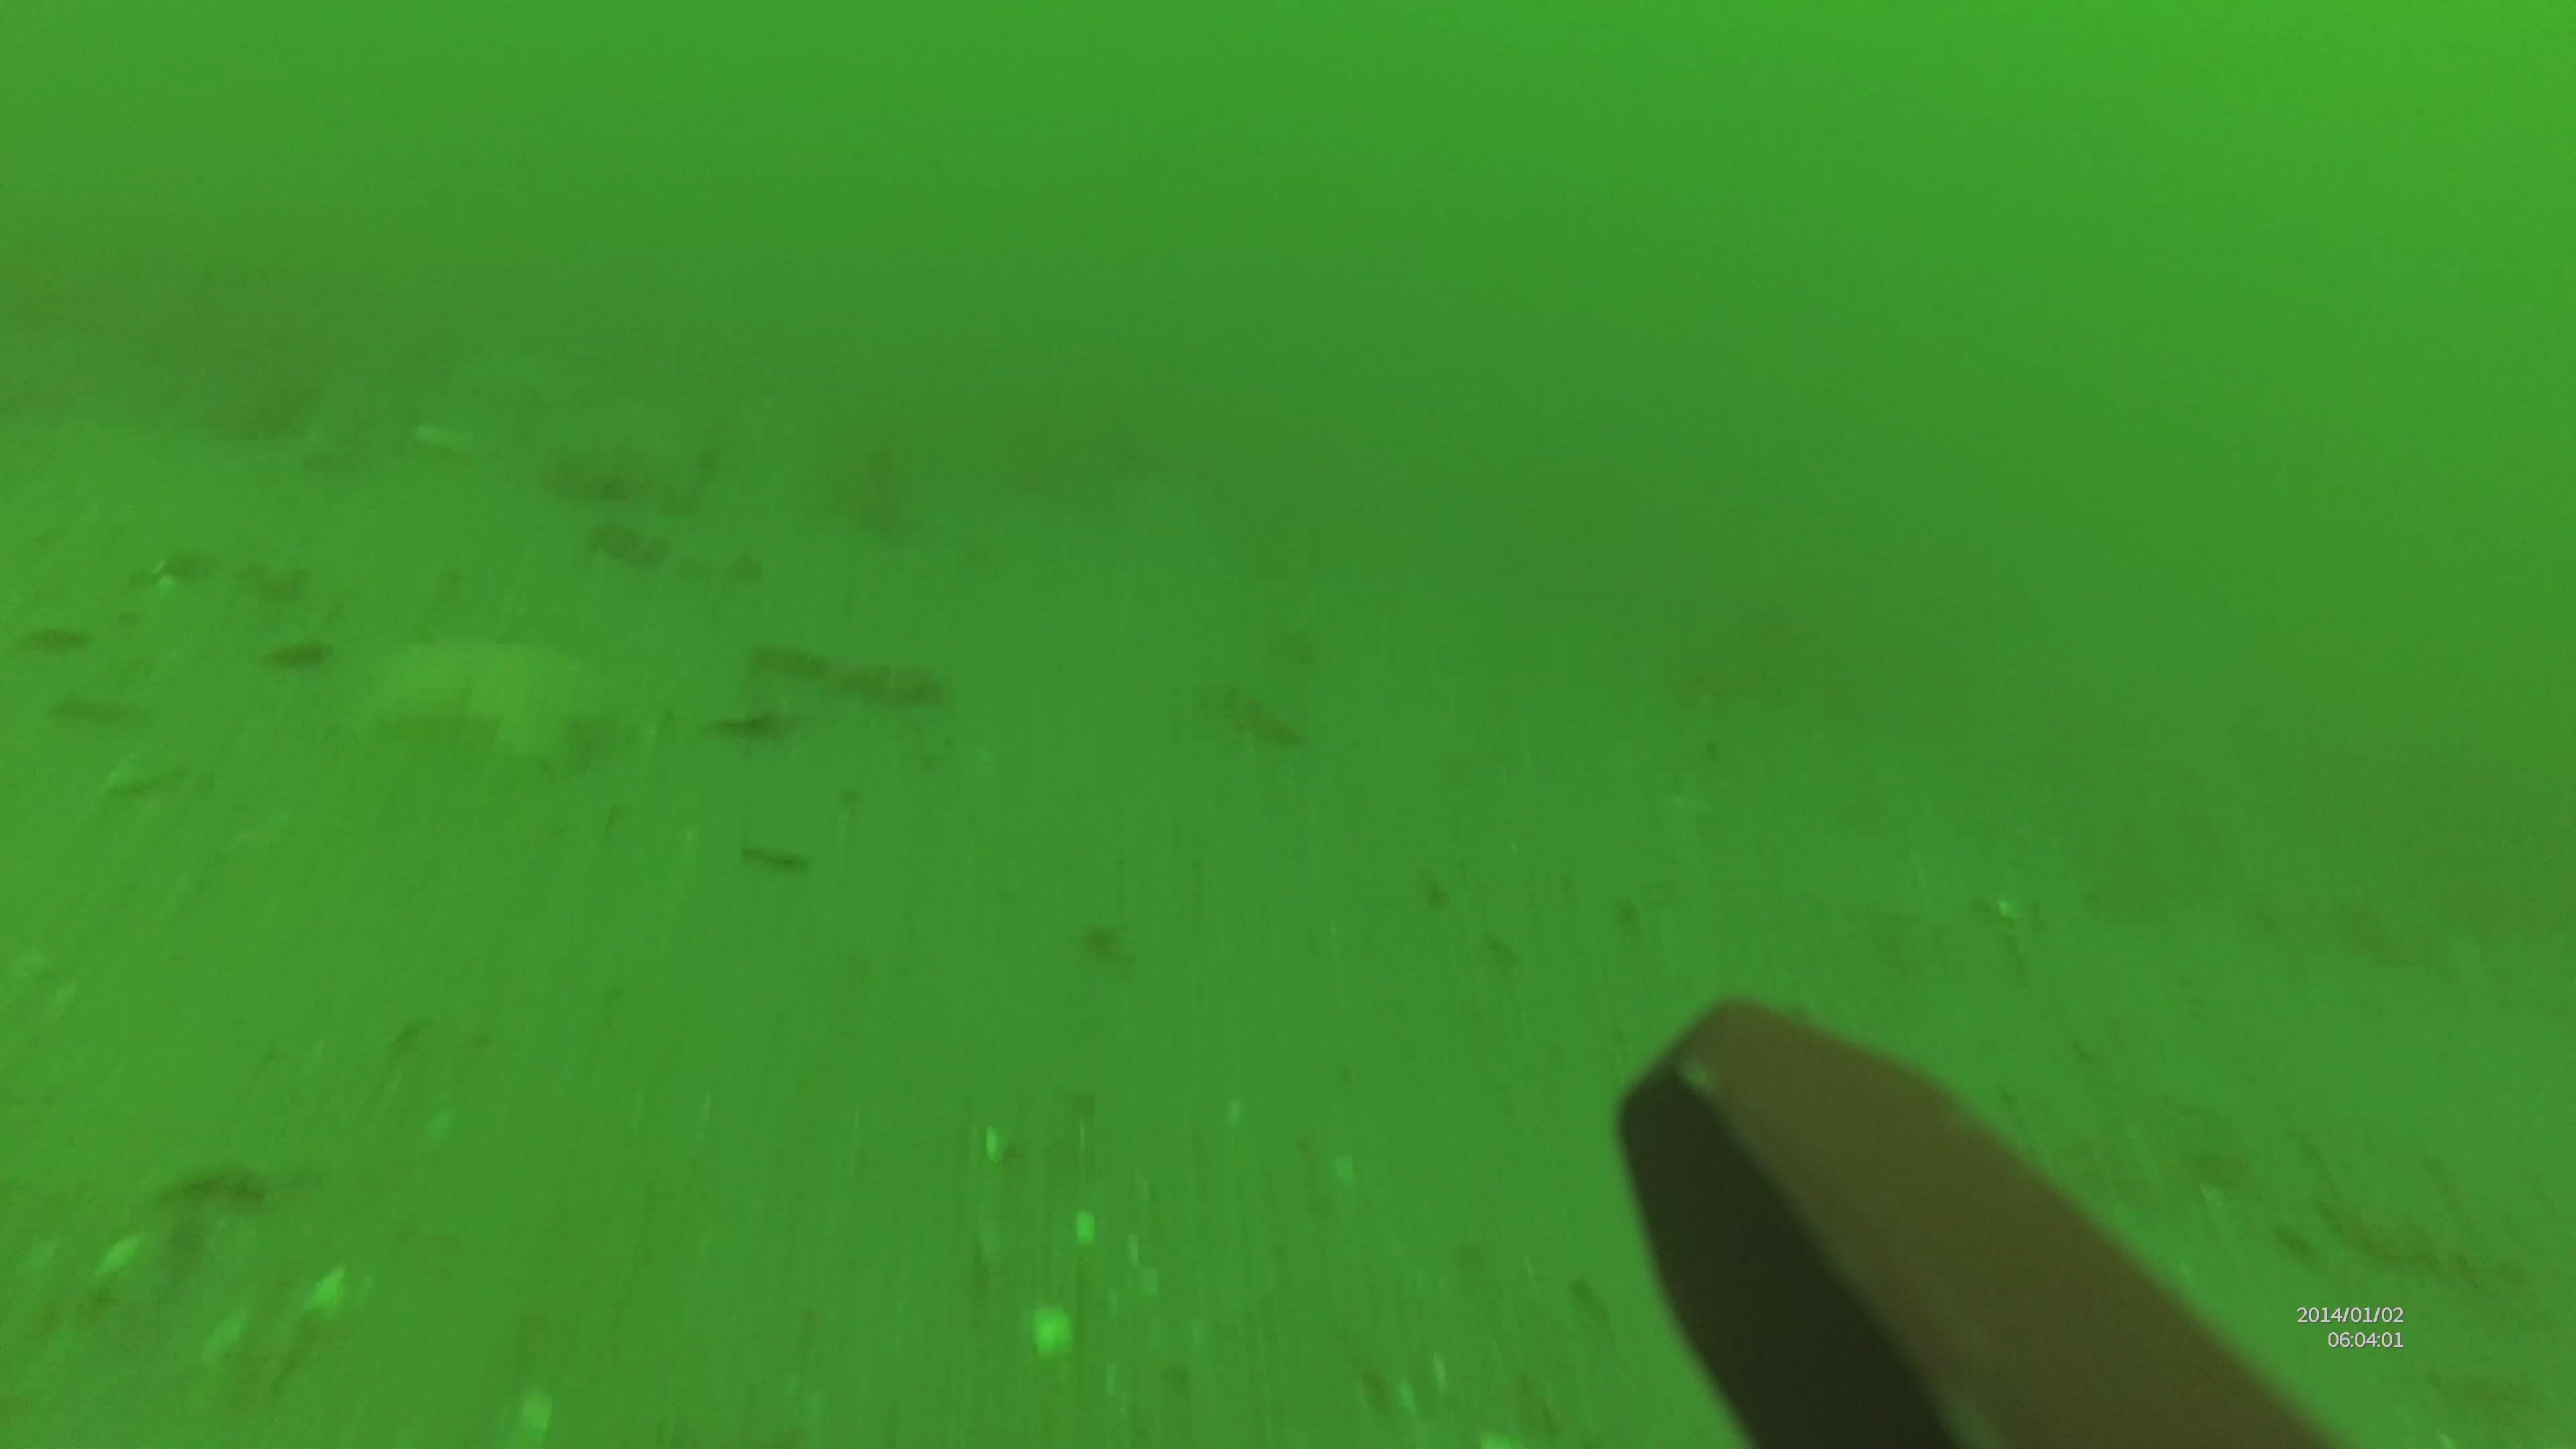starfish: (366, 609, 614, 782)
